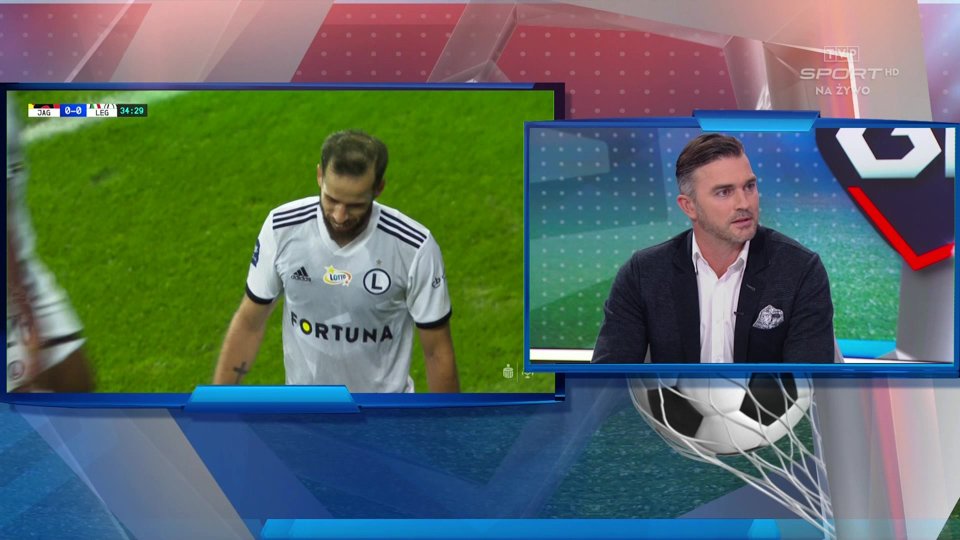Adidas: (291, 265, 312, 282)
